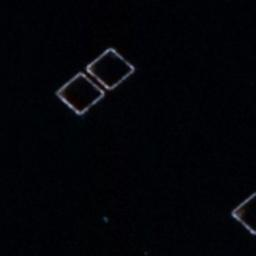square_solid: (54, 67, 112, 118), (84, 43, 139, 94), (224, 188, 256, 240)
